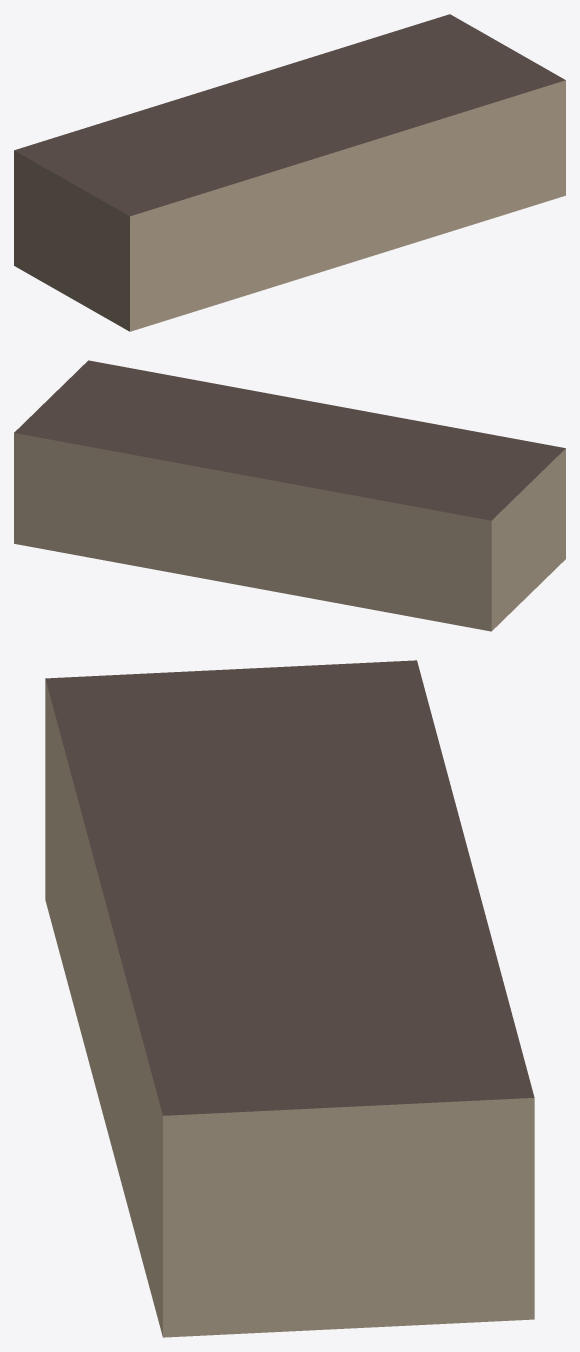
The picture shows the model from 3 angles, top to bottom: view 1: azimuth 30°, elevation 25°; view 2: azimuth 150°, elevation 25°; view 3: azimuth 270°, elevation 25°; orthographic projection. The views are drawn at different scales.
Parts seen in each view (by area): view 1: HP-w859424235; view 2: HP-w859424235; view 3: HP-w859424235.
Boxes of the visible parts, x1,y1,x2,y2 form: HP-w859424235: (14,14,565,331); HP-w859424235: (14,360,565,631); HP-w859424235: (45,660,534,1337).
Size of the model in its own units: 39.65 by 9 by 17.99.
